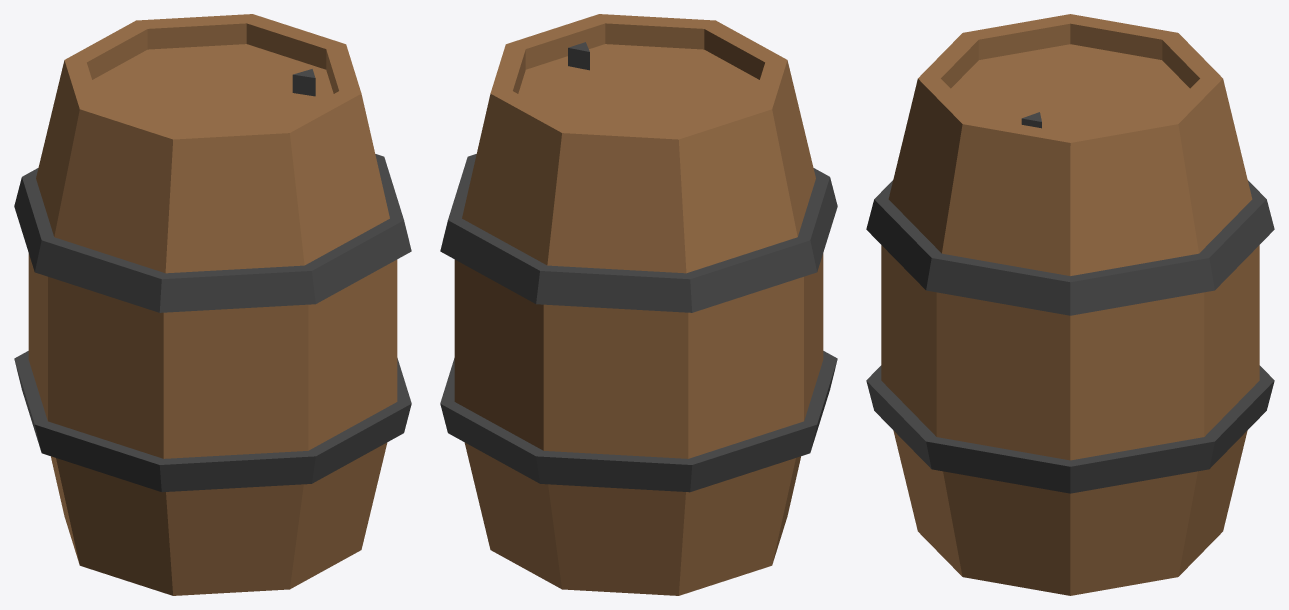
Rendered from Barrel1.fbx.
3 views of the same model, side by side, from view 1: azimuth 30°, elevation 25°; view 2: azimuth 150°, elevation 25°; view 3: azimuth 270°, elevation 25° (orthographic).
Visible parts, largest first — view 1: Cylinder; view 2: Cylinder; view 3: Cylinder.
Boxes of the visible parts, box(x1,y1,x2,y2) form: Cylinder: box(14, 14, 411, 595); Cylinder: box(440, 14, 837, 595); Cylinder: box(866, 14, 1274, 595).
Bounding box in the file's own units: 0.3353 × 0.4103 × 0.3353.
